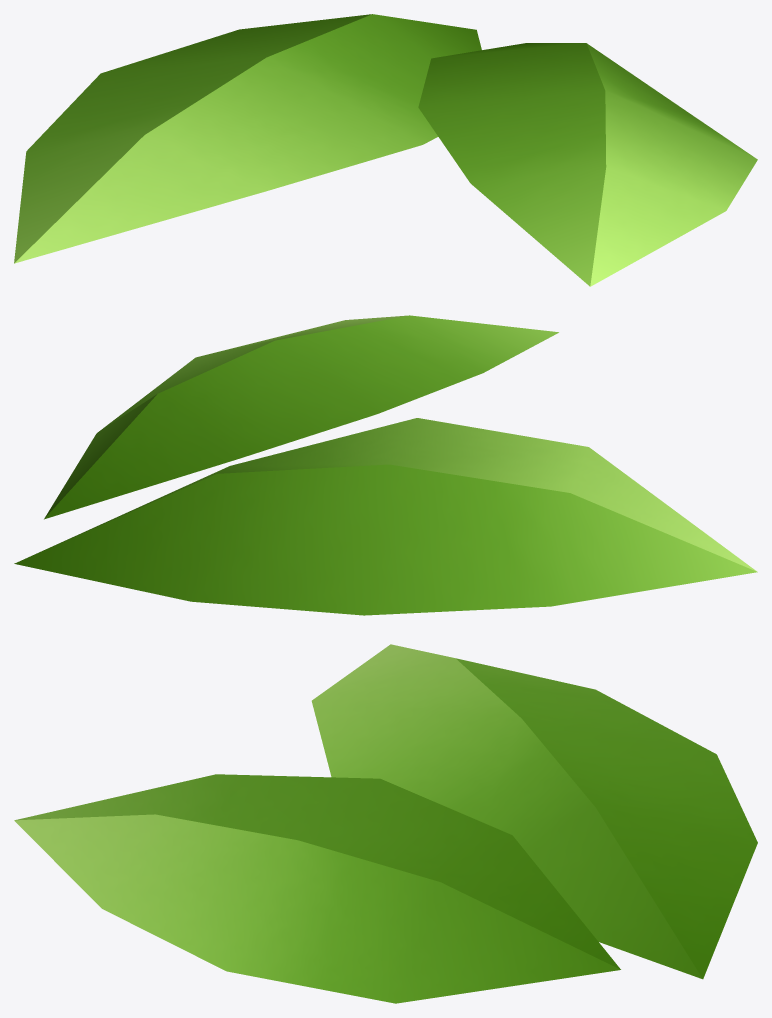
Rendered from m_TarteAuChocolat01_Deco.fbx.
3 views of the same model, one above another, from view 1: azimuth 30°, elevation 25°; view 2: azimuth 150°, elevation 25°; view 3: azimuth 270°, elevation 25° (orthographic). The views are drawn at different scales.
Parts seen in each view (by area): view 1: m_TarteAuChocolat01_Deco; view 2: m_TarteAuChocolat01_Deco; view 3: m_TarteAuChocolat01_Deco.
Part boxes in pixels (x1,y1,x2,y2): m_TarteAuChocolat01_Deco: (14, 14, 757, 286); m_TarteAuChocolat01_Deco: (14, 315, 757, 615); m_TarteAuChocolat01_Deco: (14, 644, 757, 1003).
Size of the model in its own units: 6.77 by 1.05 by 6.29.
